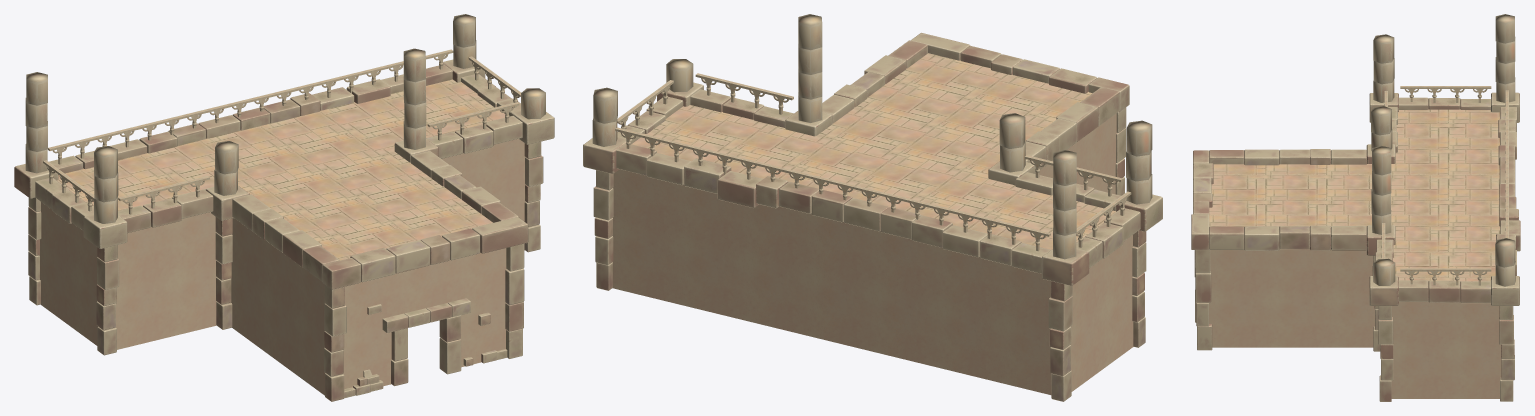
File: halfofkayenshardwork.fbx
3 views of the same model, side by side, from view 1: azimuth 30°, elevation 25°; view 2: azimuth 150°, elevation 25°; view 3: azimuth 270°, elevation 25° (orthographic). The views are drawn at different scales.
Parts seen in each view (by area): view 1: polySurface2233; view 2: polySurface2233; view 3: polySurface2233.
Part boxes in pixels (<box>): polySurface2233: <box>14,14,554,401</box>; polySurface2233: <box>583,14,1162,401</box>; polySurface2233: <box>1191,14,1520,401</box>.
Size of the model in its own units: 19.02 by 9.02 by 13.54.
